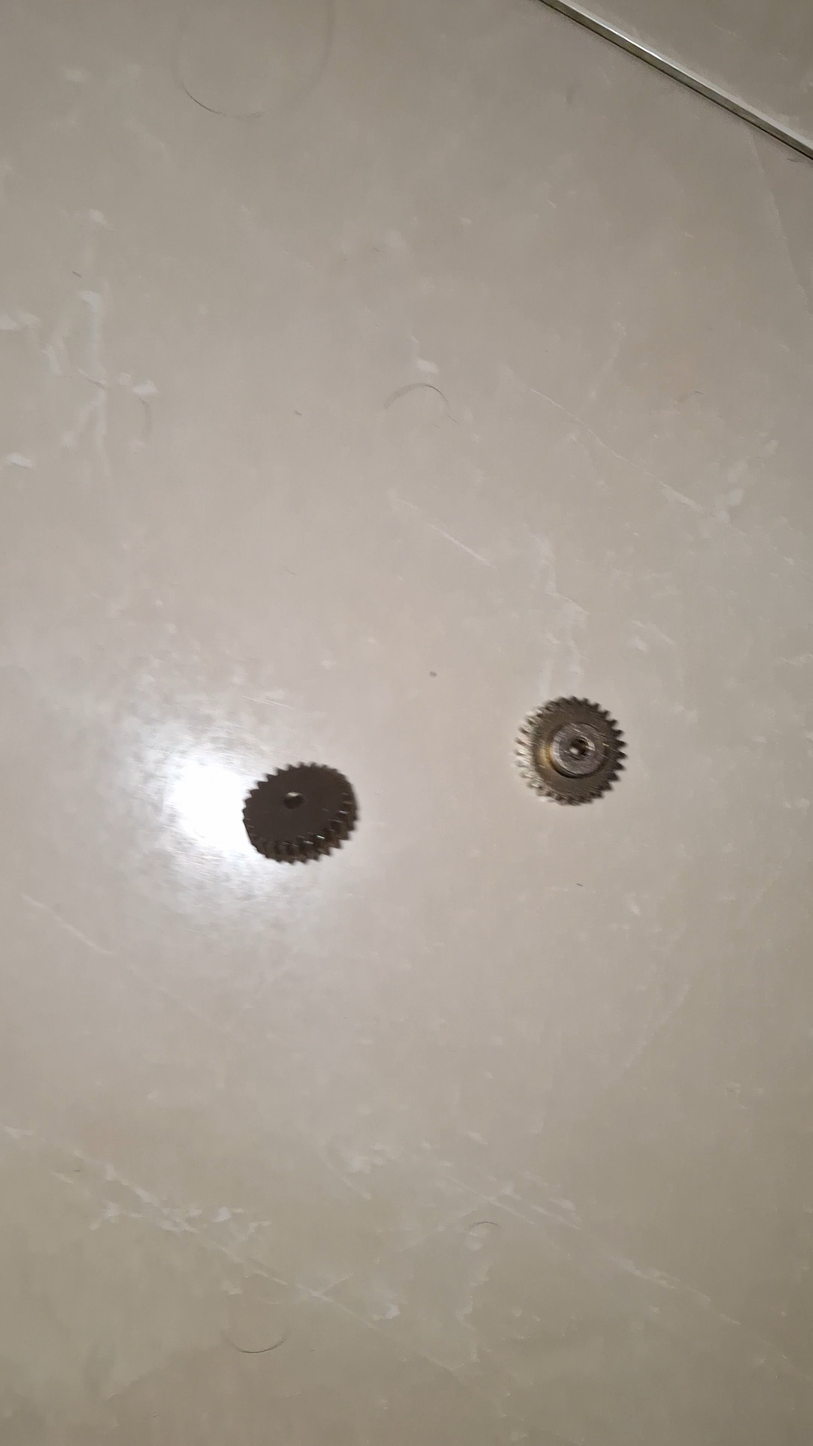spur gear: (516, 698, 625, 804), (243, 764, 357, 863)
